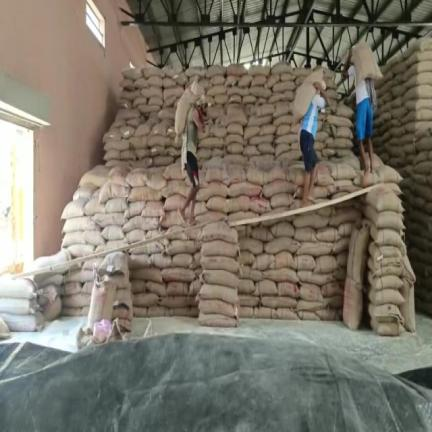Zone-Counting: (343, 43, 381, 176), (292, 71, 329, 205), (176, 83, 207, 224)
